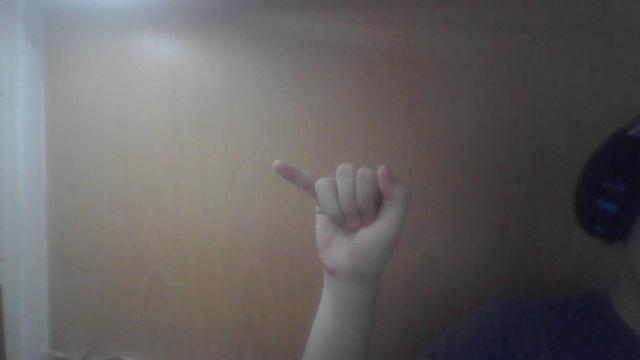Right: (266, 151, 408, 283)
